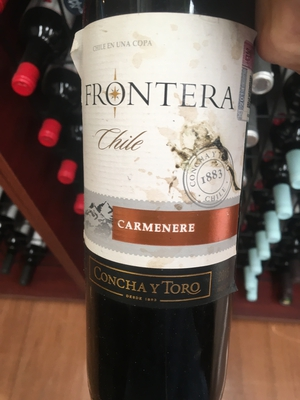frontera carmenere: (67, 8, 270, 393)
